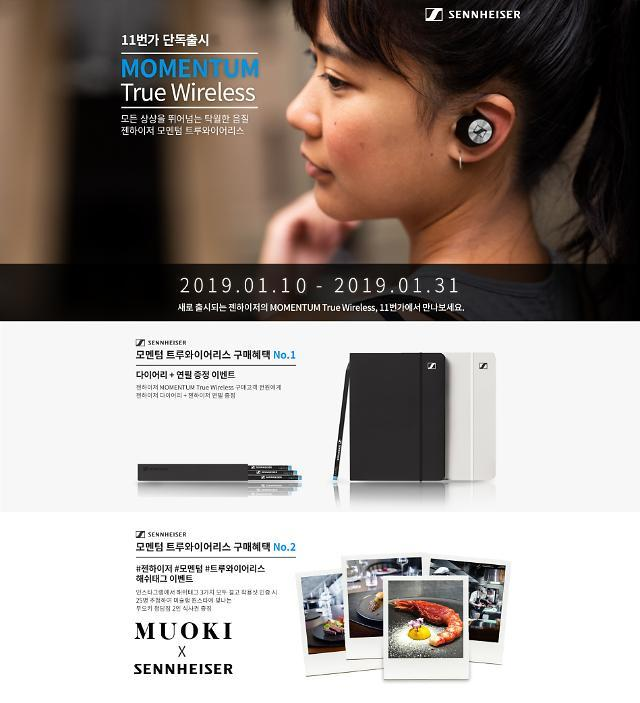earphone: (452, 110, 501, 155)
